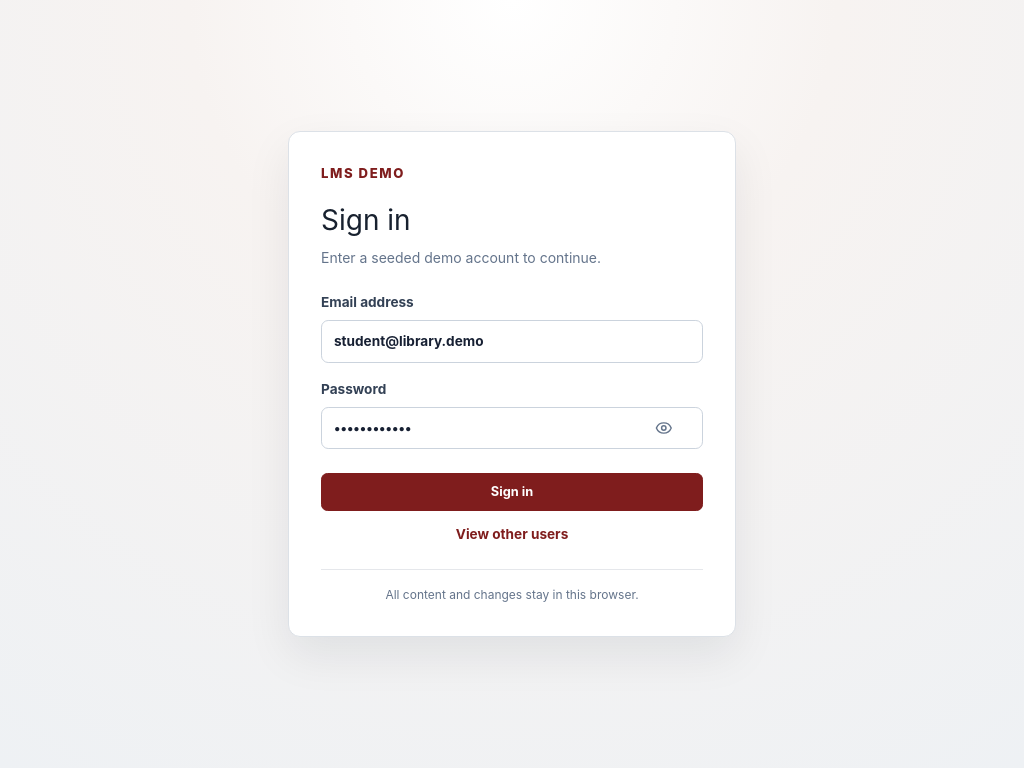
Test: selects another demo account from the credential modal
The width and height of the screenshot is (1024, 768).
Click the button "View other users": (512,534) [321,524,703,545]
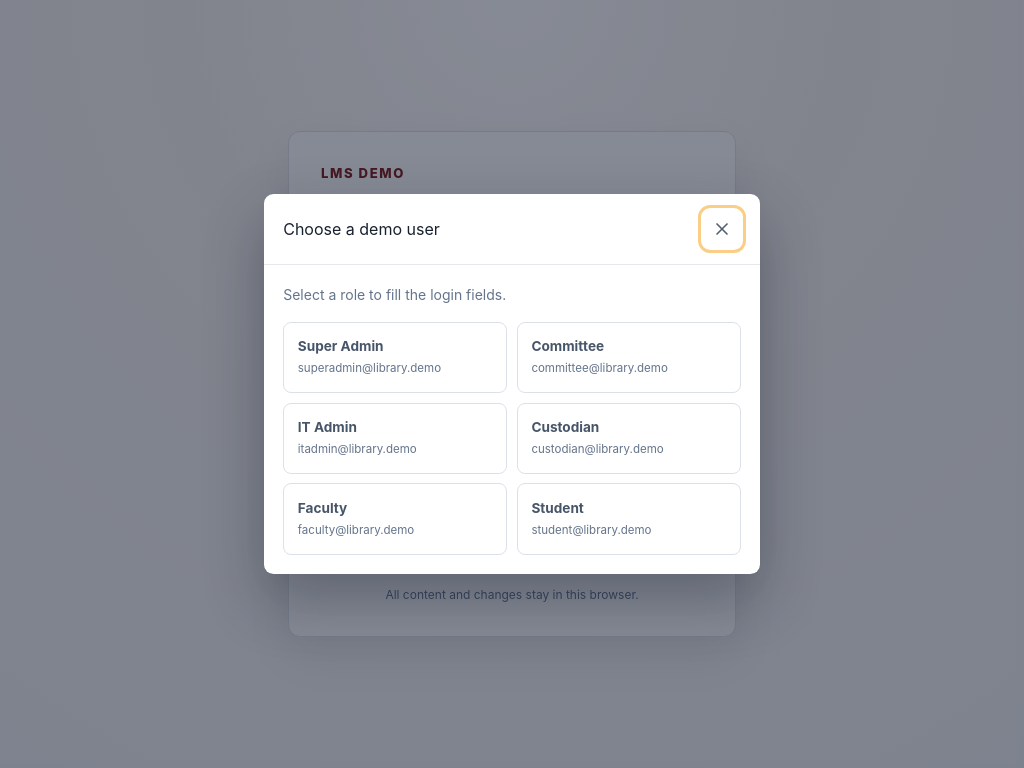
Check: the dialog "Choose a demo user" is shown
Click the button "Faculty faculty@library.demo": (395,519) [283,483,507,555]
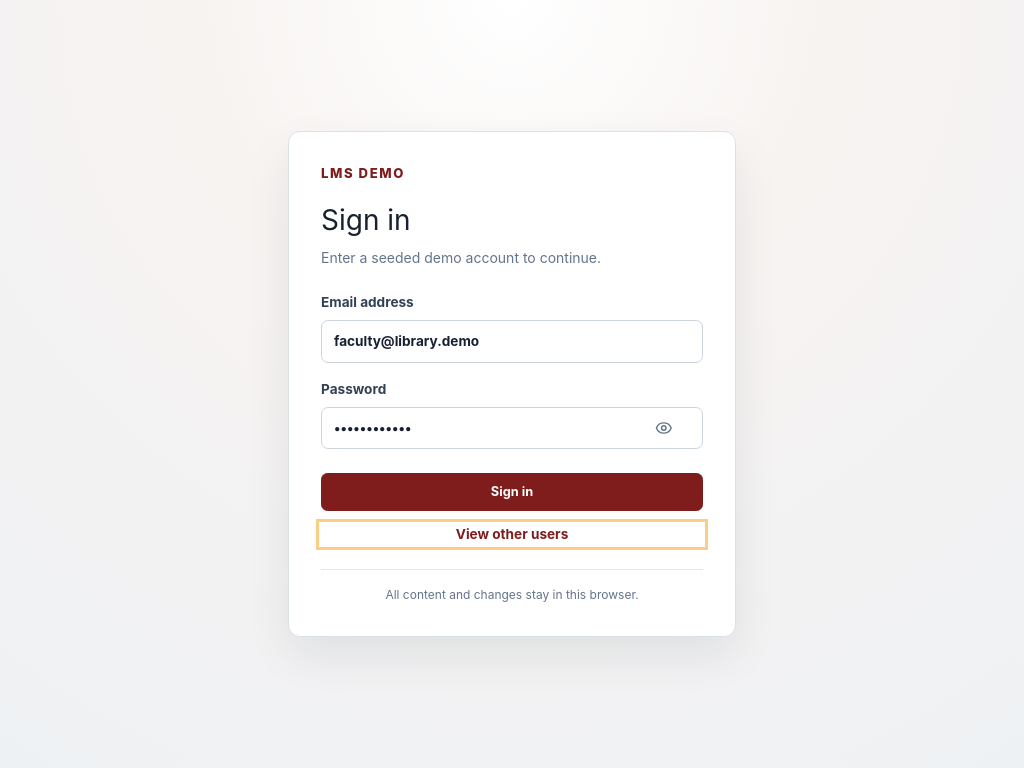
Check: the field labelled "Email" holds "faculty@library.demo", box [321,320,703,362]
